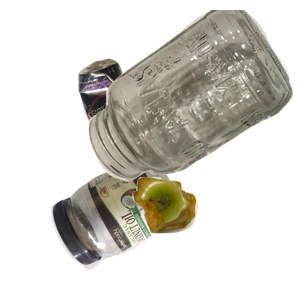glass: (86, 10, 300, 184)
metal: (75, 56, 198, 185)
plastic: (48, 152, 228, 300)
trash: (130, 175, 300, 300)
